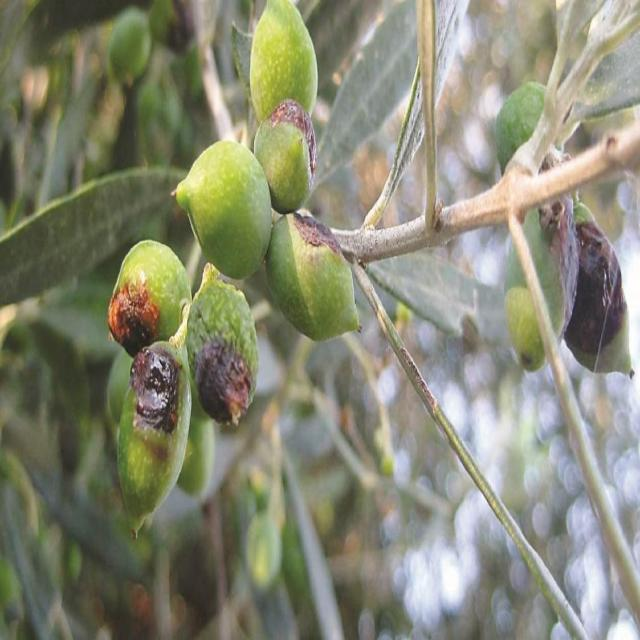Healthy: (176, 139, 271, 279), (250, 0, 317, 120)
Olive Fruit Fly: (117, 338, 191, 545), (265, 212, 361, 340), (564, 204, 634, 378), (186, 263, 258, 427), (107, 240, 191, 357), (253, 101, 317, 214)
